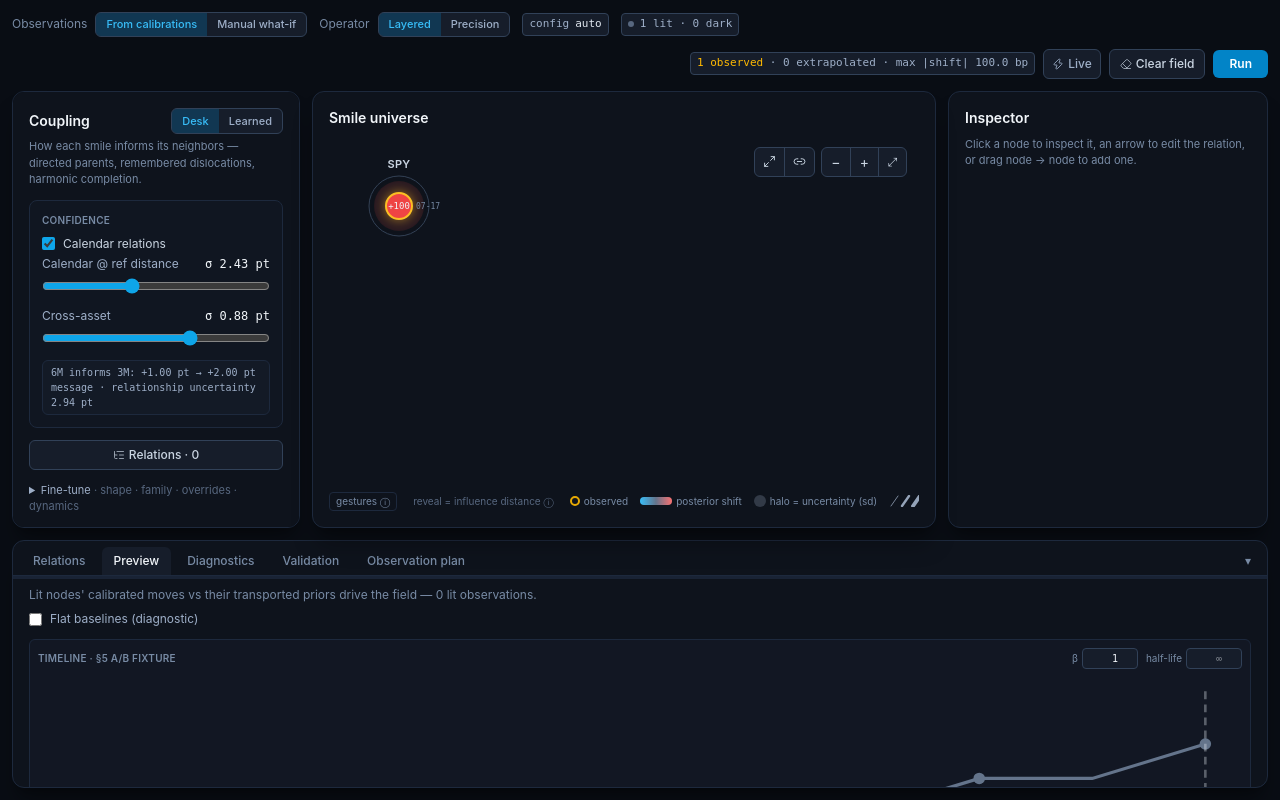
Scenario: Graph shell (U0) › layered run surfaces the decomposition card in the inspector (P6 V2)
This screenshot has width=1280, height=800.
Step 1. Click the button "Diagnostics" → (221, 561), box [175, 547, 267, 575]
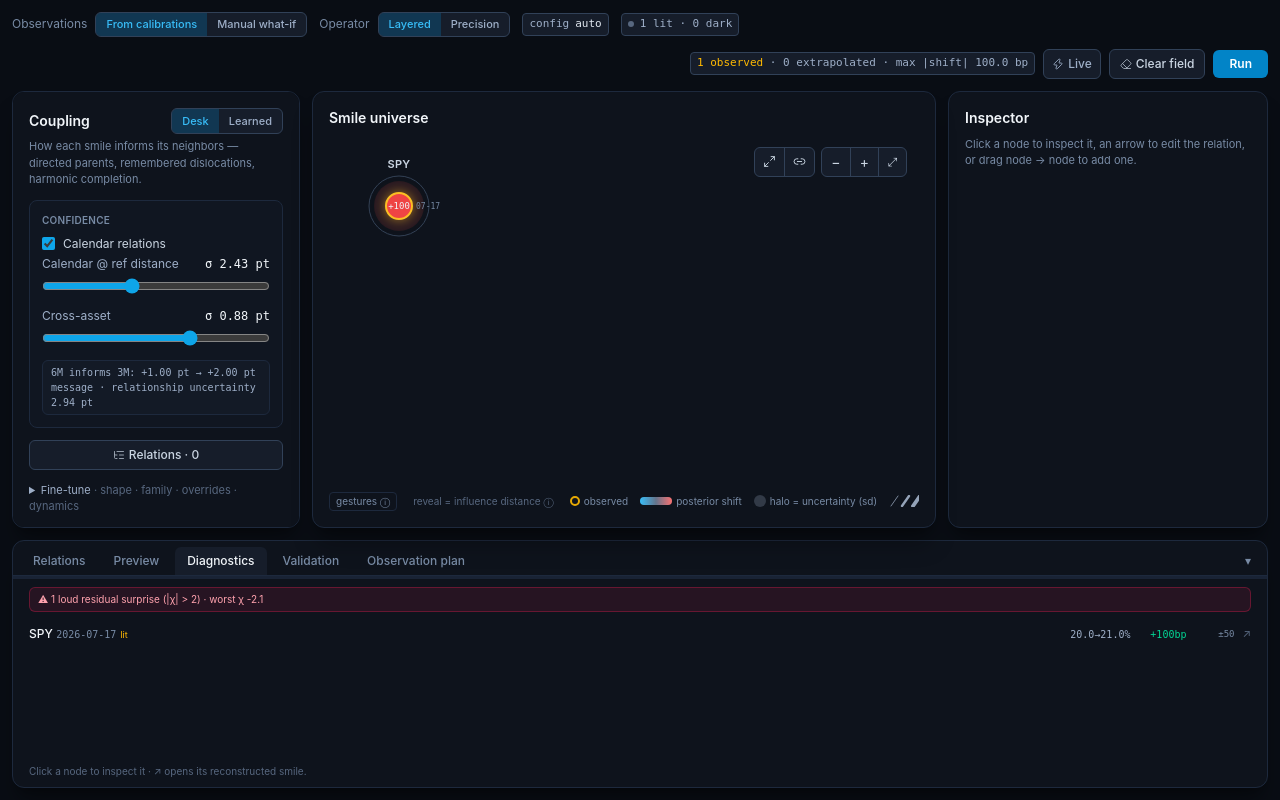
Now the text "⚠ 1 loud residual surprise (|χ| > 2) · worst χ -2.1" is shown, box [29, 587, 1251, 612]
Step 2. Click the button titled "Inspect this node (attribution of its move to the lit observations)" → (86, 635), box [29, 626, 1234, 642]
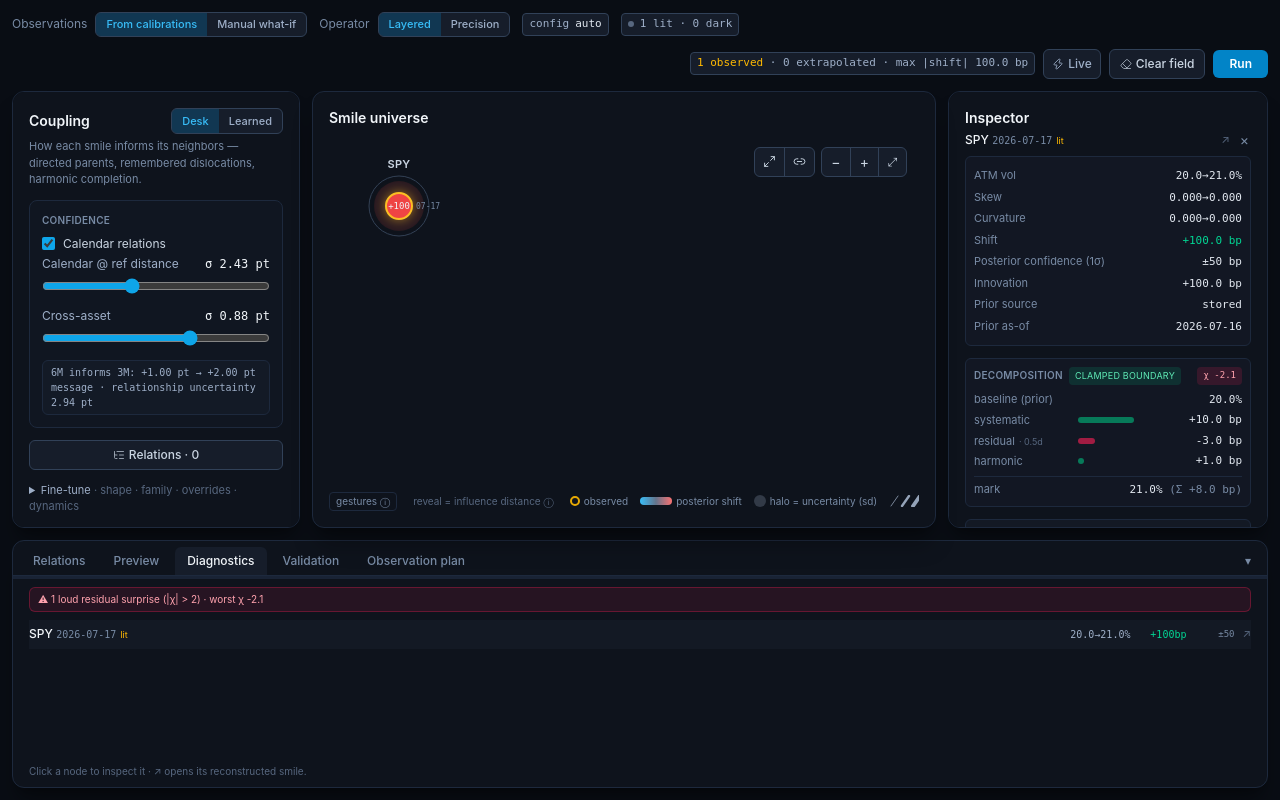
Now the text "clamped boundary" is shown, box [1069, 367, 1181, 385]
Now the element with test id "decomposition" shows "χ -2.1", box [965, 358, 1251, 507]
